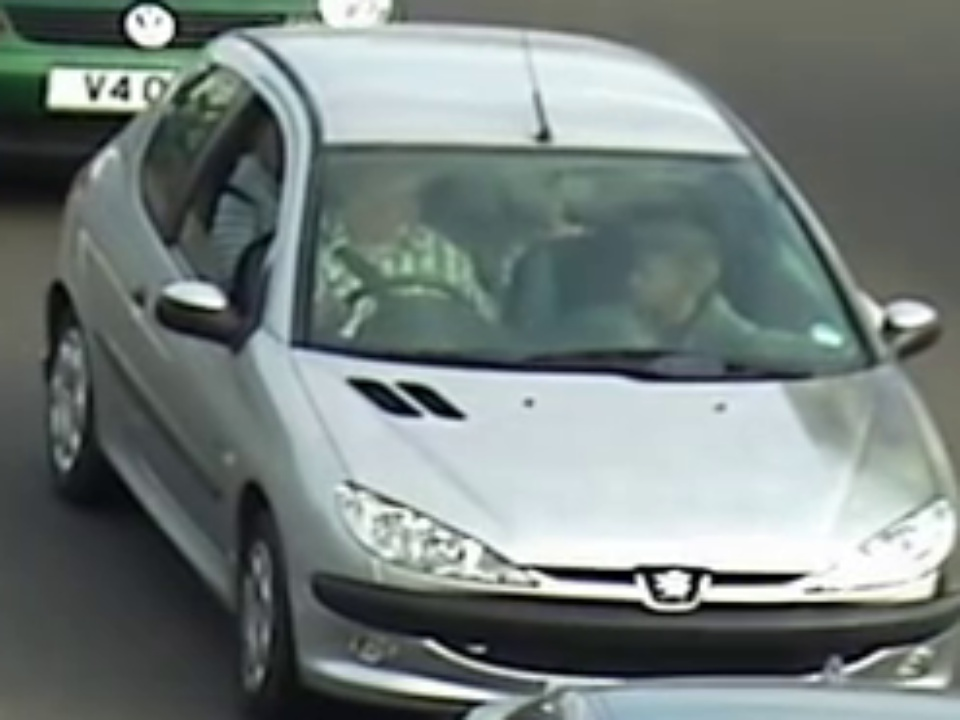TWO: (309, 150, 873, 378)
